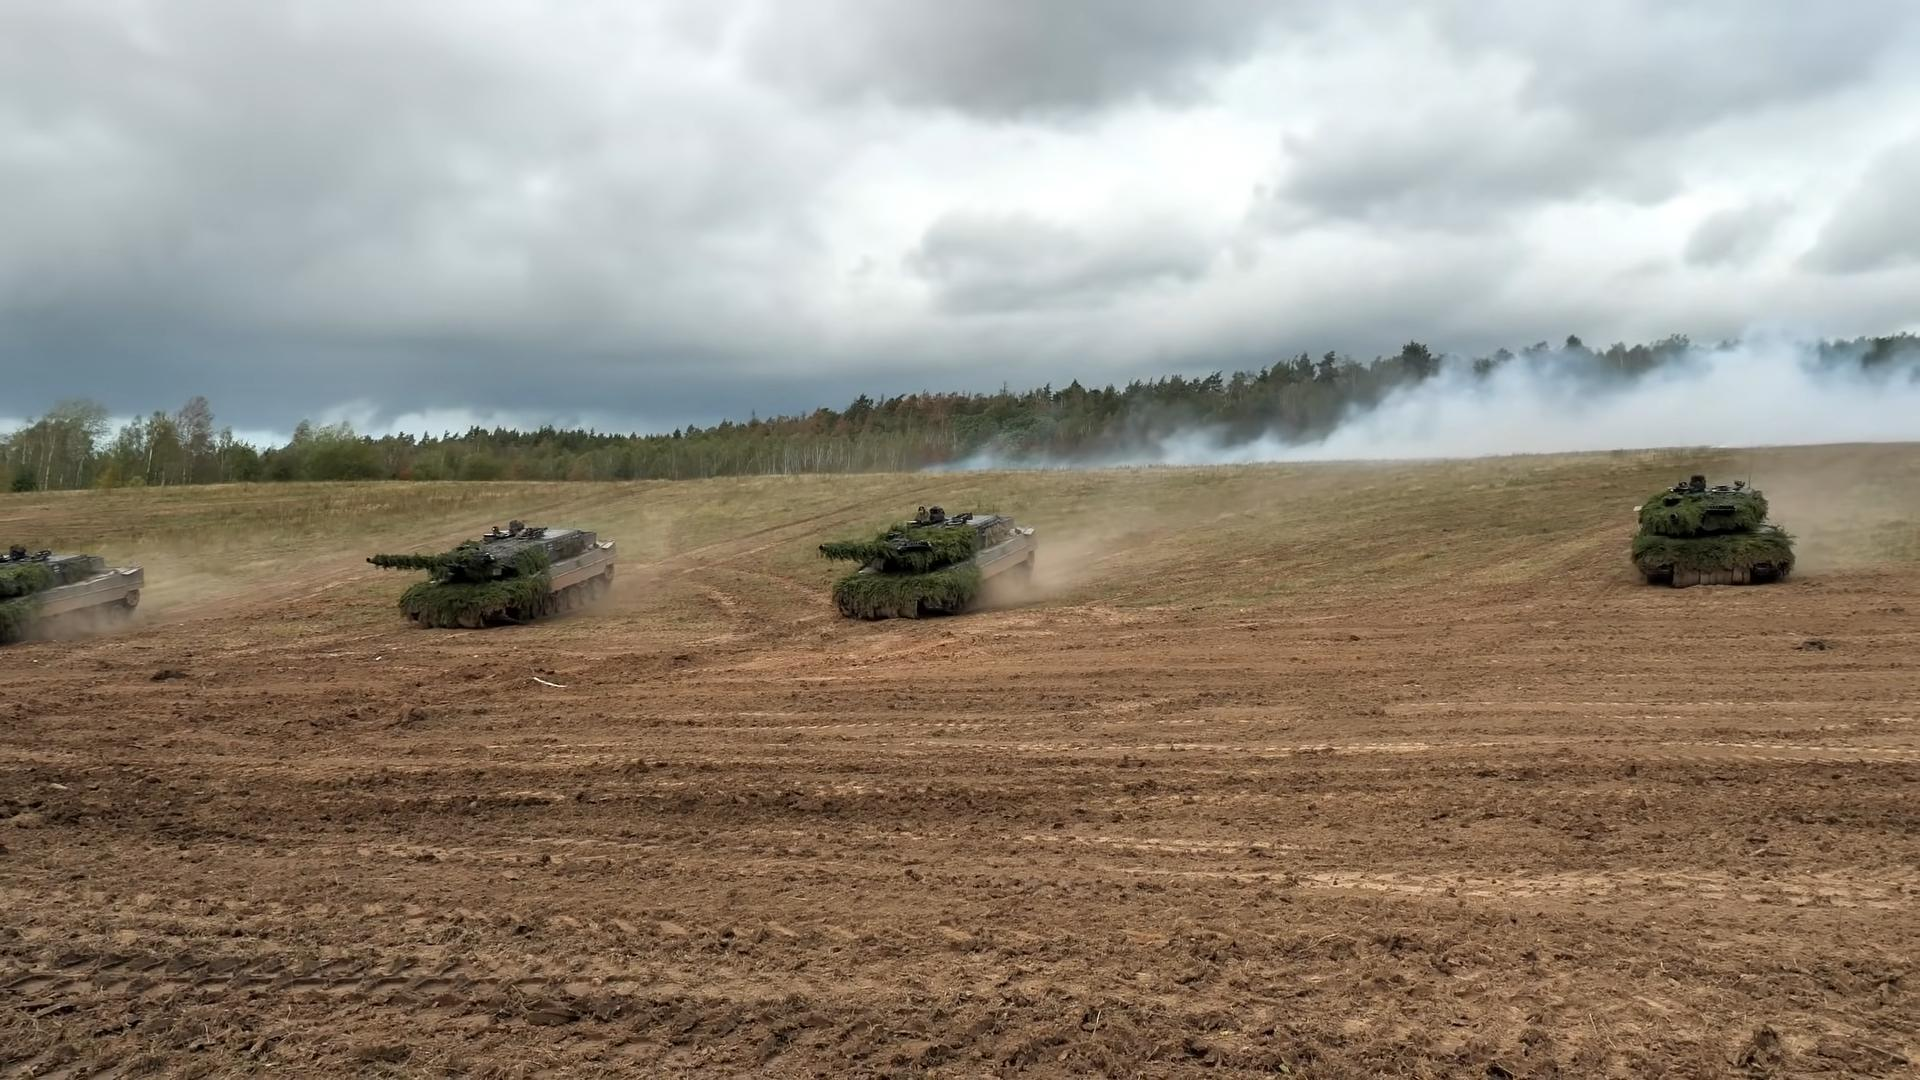tank: (367, 520, 616, 629), (818, 504, 1038, 617), (1631, 475, 1795, 584), (0, 545, 145, 645)
